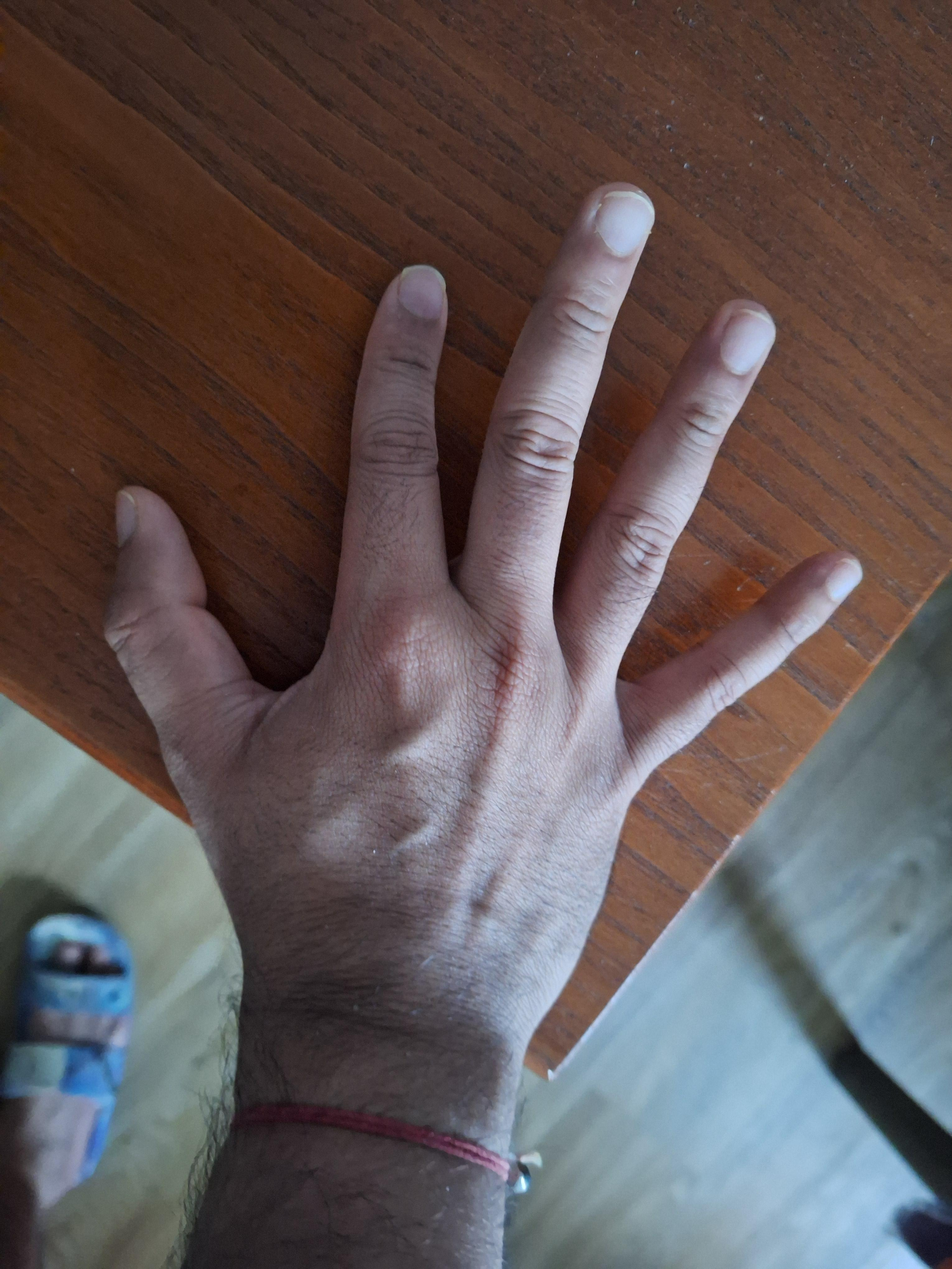Fingernail: (595, 191, 652, 255), (721, 308, 774, 376), (399, 266, 446, 321), (826, 558, 862, 601), (115, 489, 137, 546)
